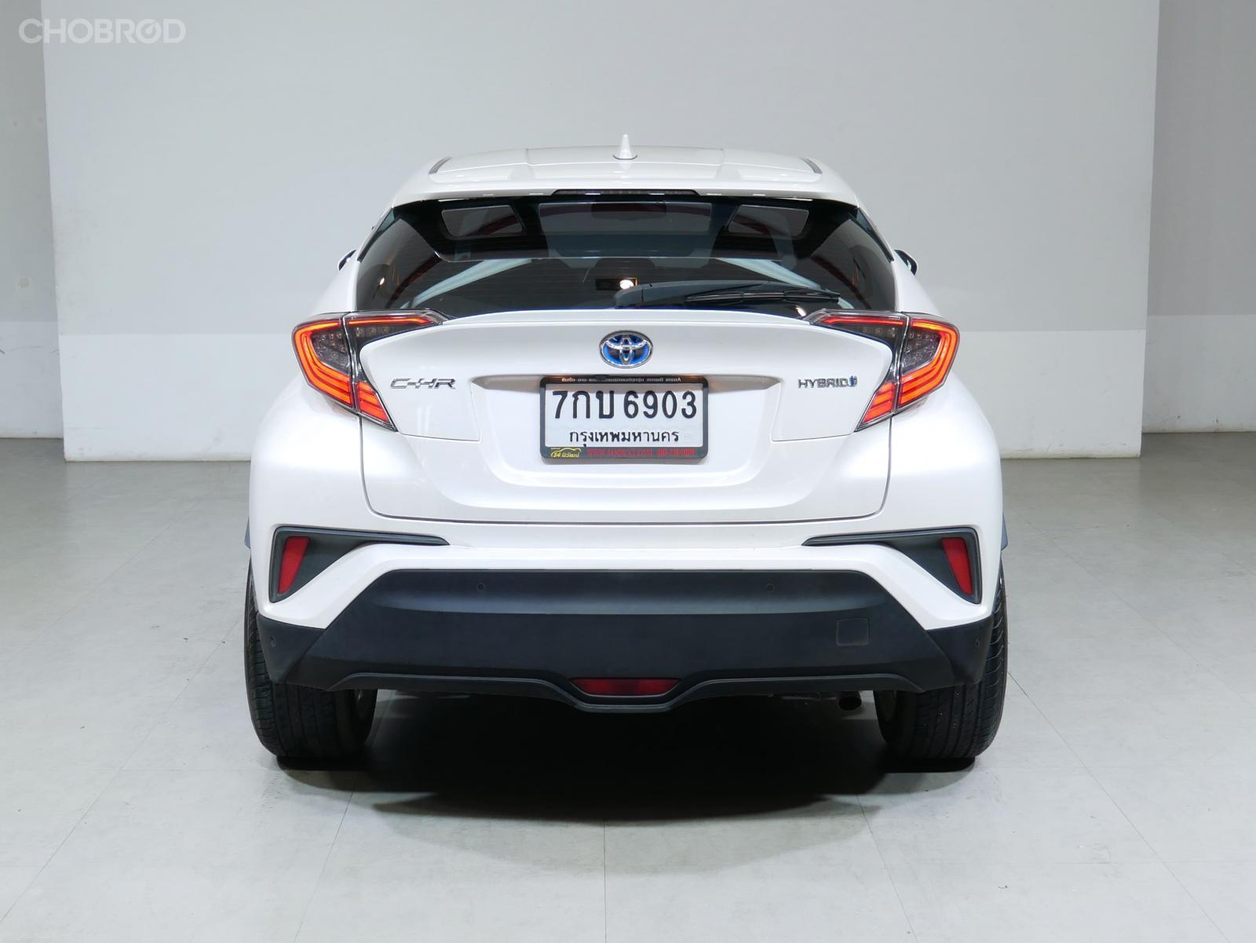license-plate: (529, 369, 721, 475)
